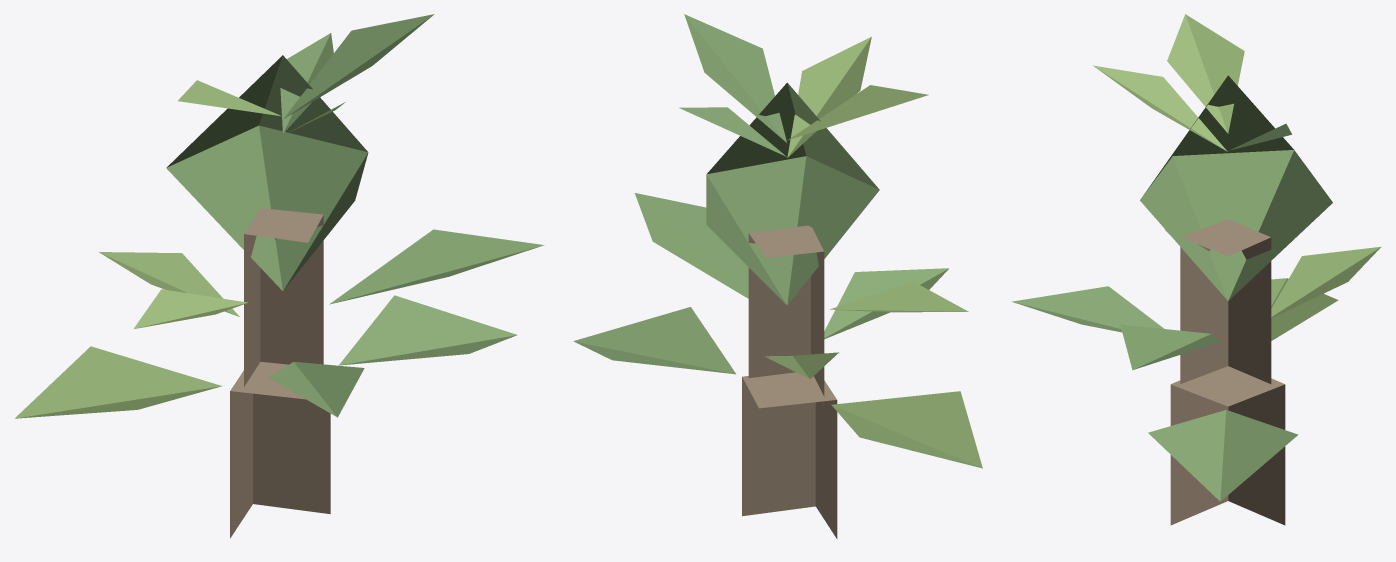
File: guan.xuangouzi@seedling__spring.glb
3 views of the same model, side by side, from view 1: azimuth 30°, elevation 25°; view 2: azimuth 150°, elevation 25°; view 3: azimuth 270°, elevation 25° (orthographic). The views are drawn at different scales.
Parts seen in each view (by area): view 1: guan.xuangouzi@seedling__spring; view 2: guan.xuangouzi@seedling__spring; view 3: guan.xuangouzi@seedling__spring.
Part boxes in pixels (x1=…): guan.xuangouzi@seedling__spring: x1=15, y1=14, x2=544, y2=538; guan.xuangouzi@seedling__spring: x1=573, y1=14, x2=982, y2=538; guan.xuangouzi@seedling__spring: x1=1012, y1=14, x2=1381, y2=525.
Size of the model in its own units: 0.1401 by 0.1415 by 0.1002.
